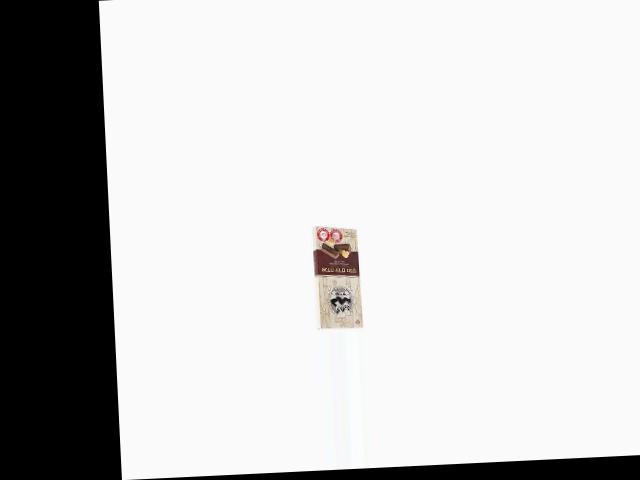chocolate: (303, 222, 364, 330)
